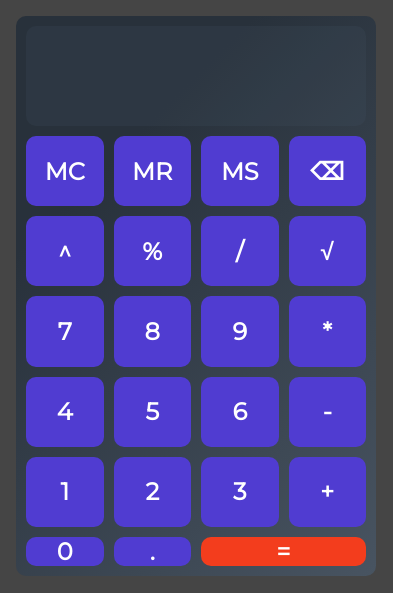
Does page render correctly › Does backspace button last entered digit
Click the button "5" at (152, 412), box [114,377,191,447]
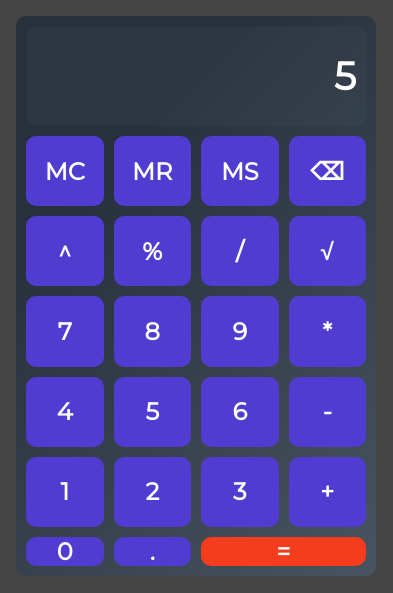
Click the button "9" at (240, 332), box [201,296,278,367]
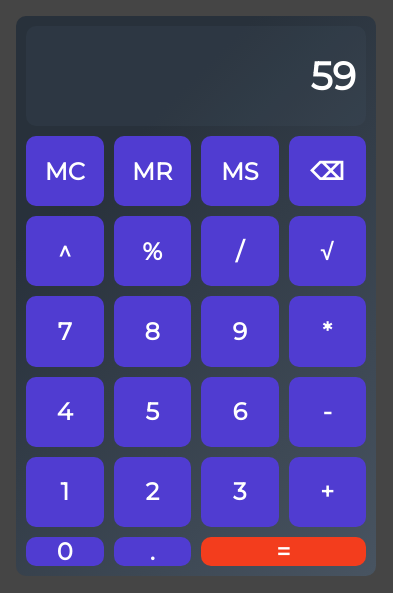
Click the button "0" at (65, 552), box [26,537,104,566]
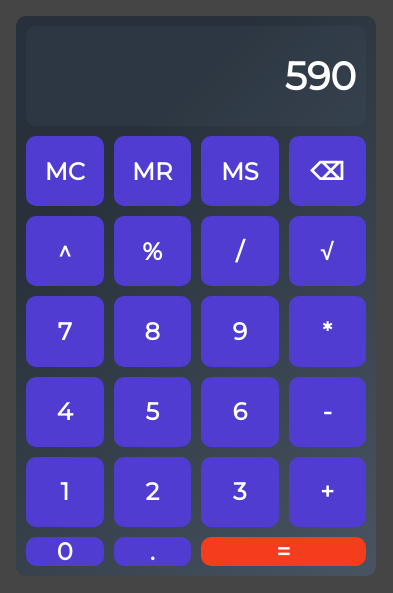
Click the button "⌫" at (327, 171), box [288,136,366,206]
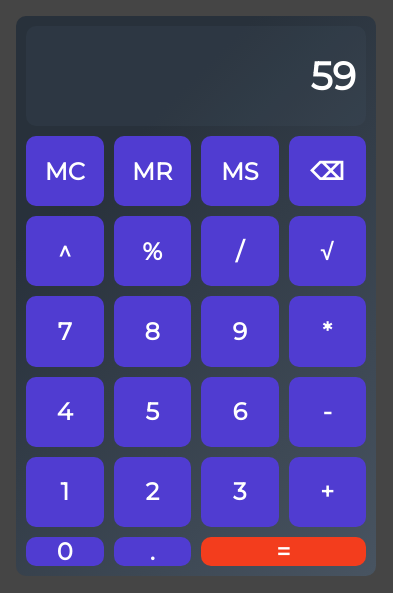
Expected: the text with test id "screen-id" reads "59", [310,52,356,100]
